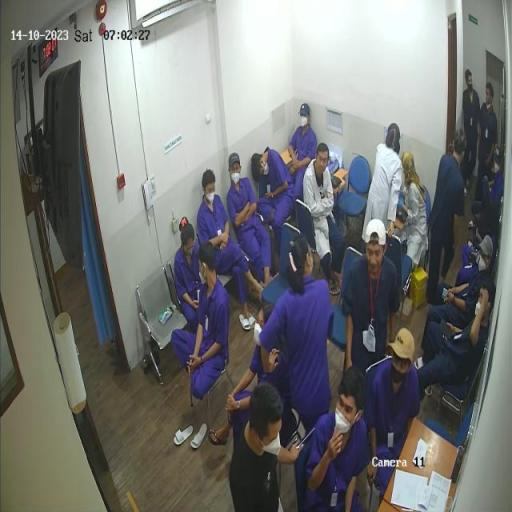person: (262, 235, 335, 425), (344, 220, 400, 435), (211, 303, 289, 448), (416, 280, 497, 417), (416, 236, 495, 372), (198, 172, 263, 329), (230, 382, 304, 512), (172, 244, 231, 403), (369, 327, 422, 501), (307, 366, 367, 512), (428, 128, 467, 306), (228, 155, 280, 288), (304, 143, 347, 297), (364, 123, 404, 265), (252, 148, 297, 251), (400, 153, 429, 303), (289, 104, 319, 209), (176, 219, 204, 329), (469, 147, 504, 230), (478, 84, 499, 215), (463, 71, 481, 196)
